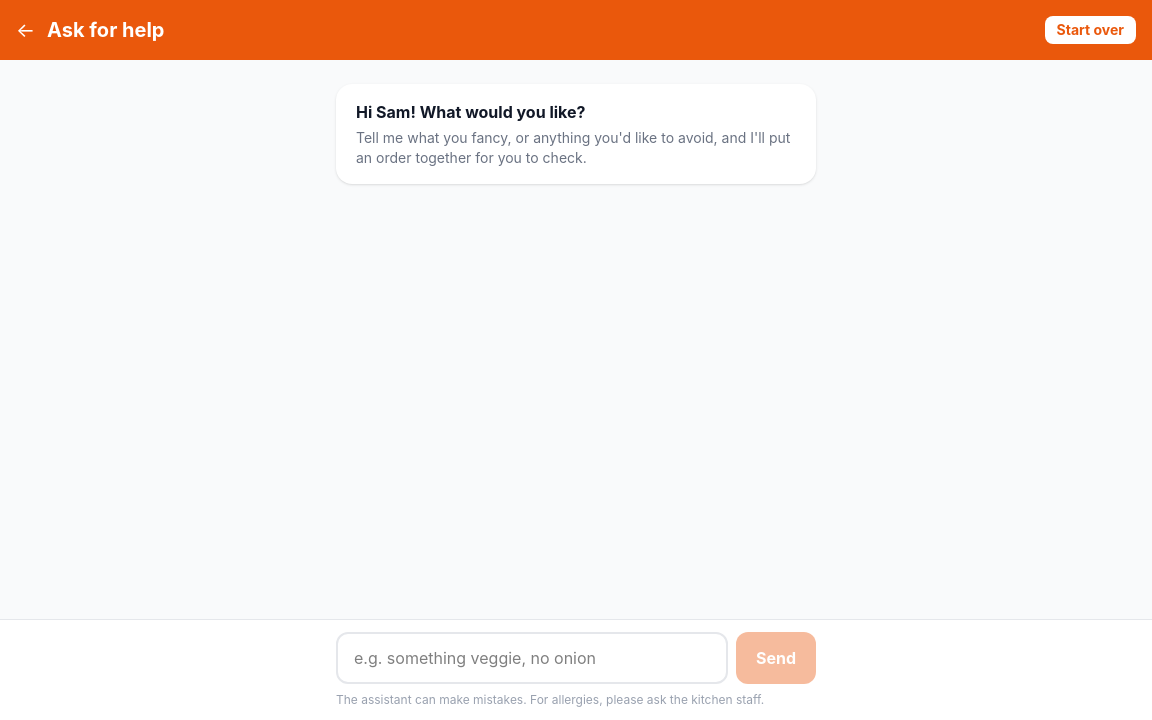
AssistantChat › includes earlier turns and keeps the same conversation id
Type "Hello" into the field named "Message" at (532, 658), box [336, 632, 728, 684]
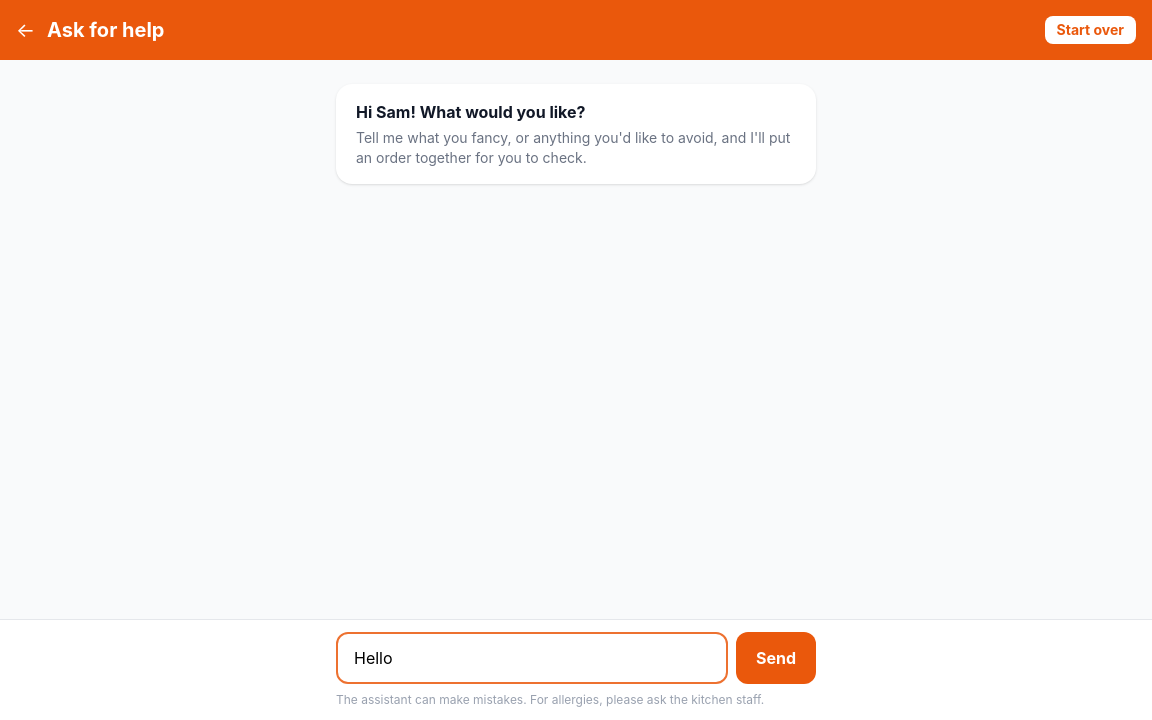
Click the button "Send" at (776, 658), box [736, 632, 816, 684]
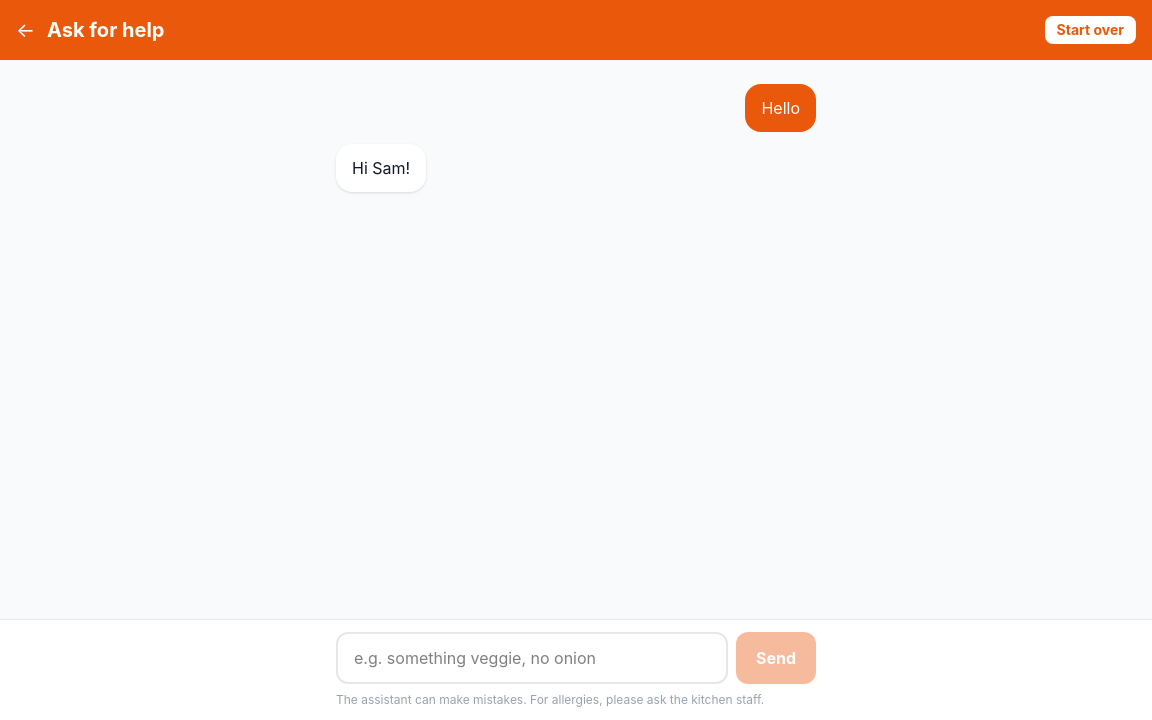
expect the text "Hi Sam!" is shown: met, box [336, 144, 426, 192]
Type "A pizza please" into the field named "Message" at (532, 658), box [336, 632, 728, 684]
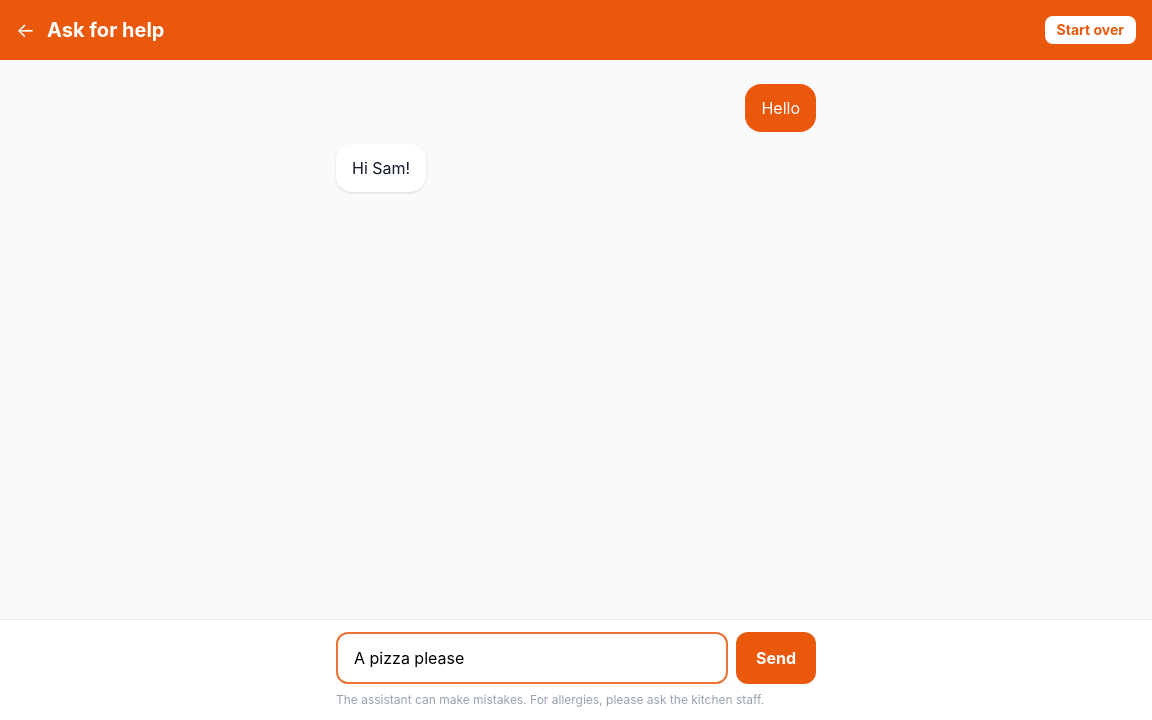
Click the button "Send" at (776, 658), box [736, 632, 816, 684]
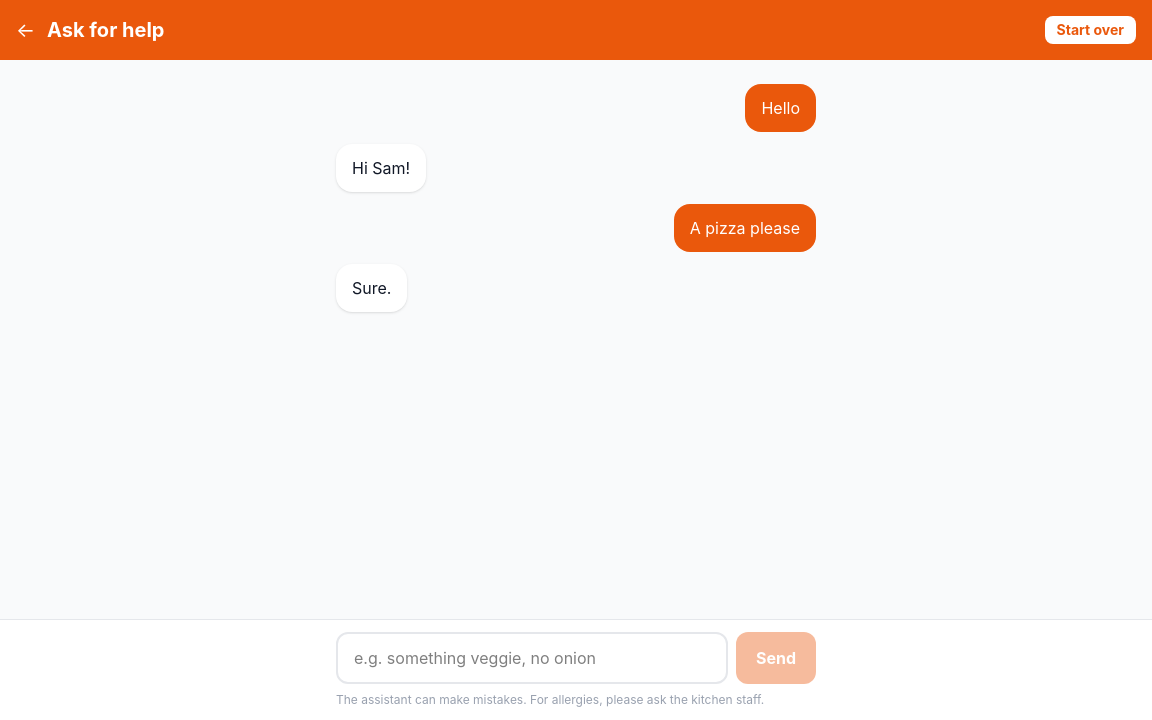
expect the text "Sure." is shown: met, box [336, 264, 407, 312]
